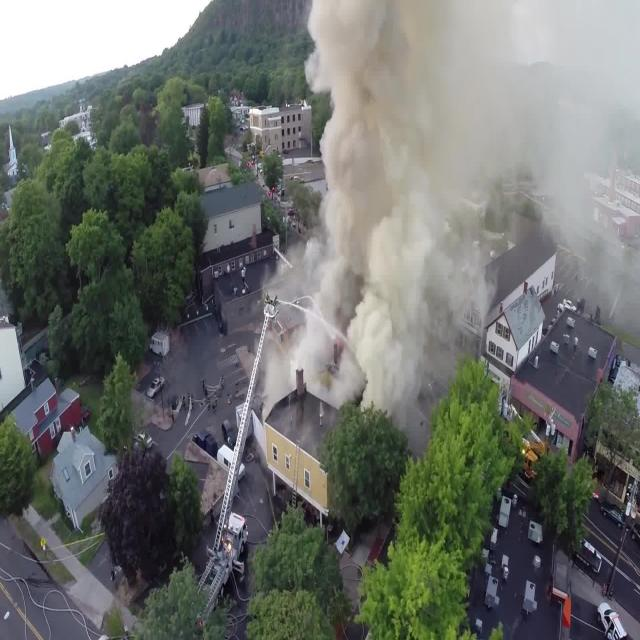Smoke: (258, 1, 526, 422)
